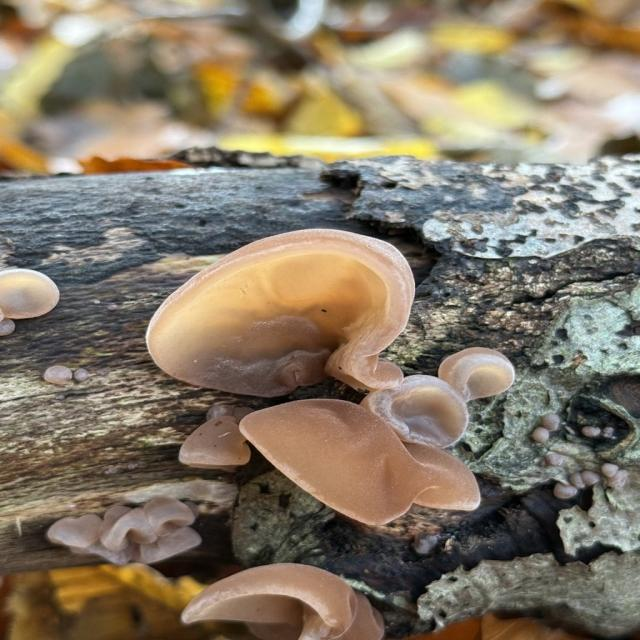Fase Muda: (240, 398, 484, 530), (175, 559, 410, 640), (40, 492, 208, 568), (364, 372, 475, 456), (170, 400, 261, 473), (0, 263, 65, 339), (437, 346, 519, 406)
Matang: (141, 226, 413, 403)
primordia: (549, 478, 581, 502), (611, 470, 637, 498), (44, 365, 74, 386), (564, 471, 588, 493), (543, 411, 562, 435), (598, 461, 622, 480), (578, 466, 598, 488), (70, 365, 92, 383), (531, 425, 551, 443), (580, 425, 604, 438)
